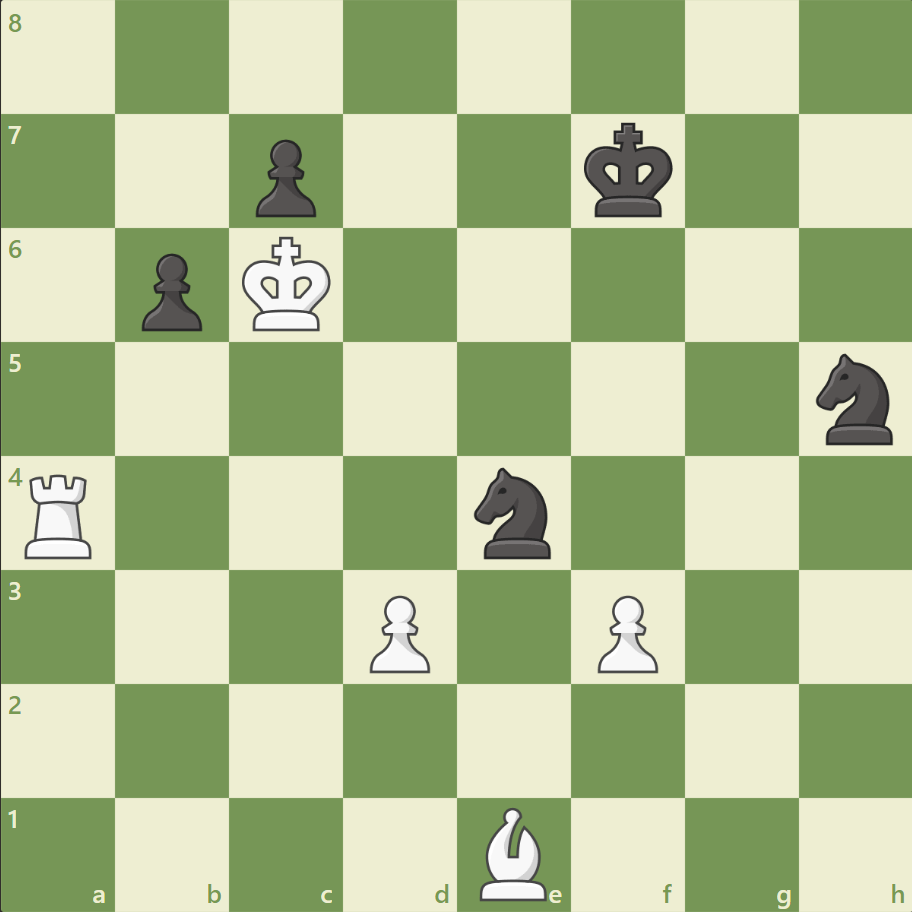B: (471, 801, 555, 904)
K: (238, 231, 338, 339)
P: (361, 586, 435, 677), (588, 586, 662, 677)
R: (19, 466, 102, 563)
k: (579, 117, 679, 225)
n: (465, 461, 562, 564), (806, 348, 903, 450)
p: (247, 132, 322, 223), (133, 246, 208, 337)
